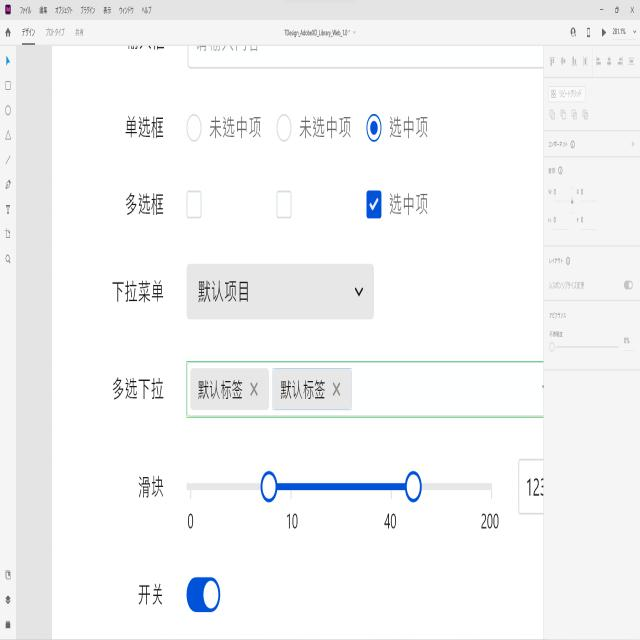checkbox: (366, 189, 383, 220)
radio: (366, 112, 382, 143)
toggle: (185, 576, 221, 612)
